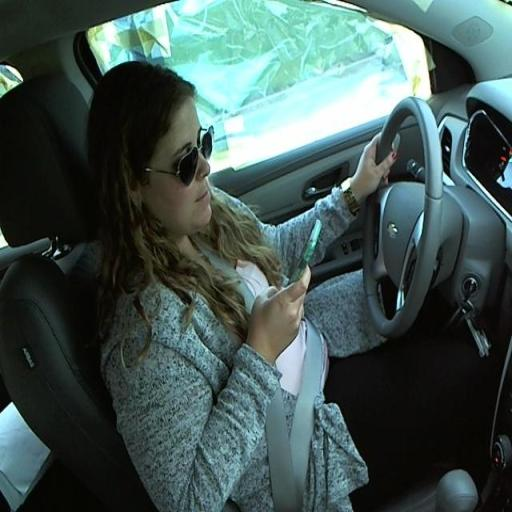texting_phone: (90, 72, 404, 502)
